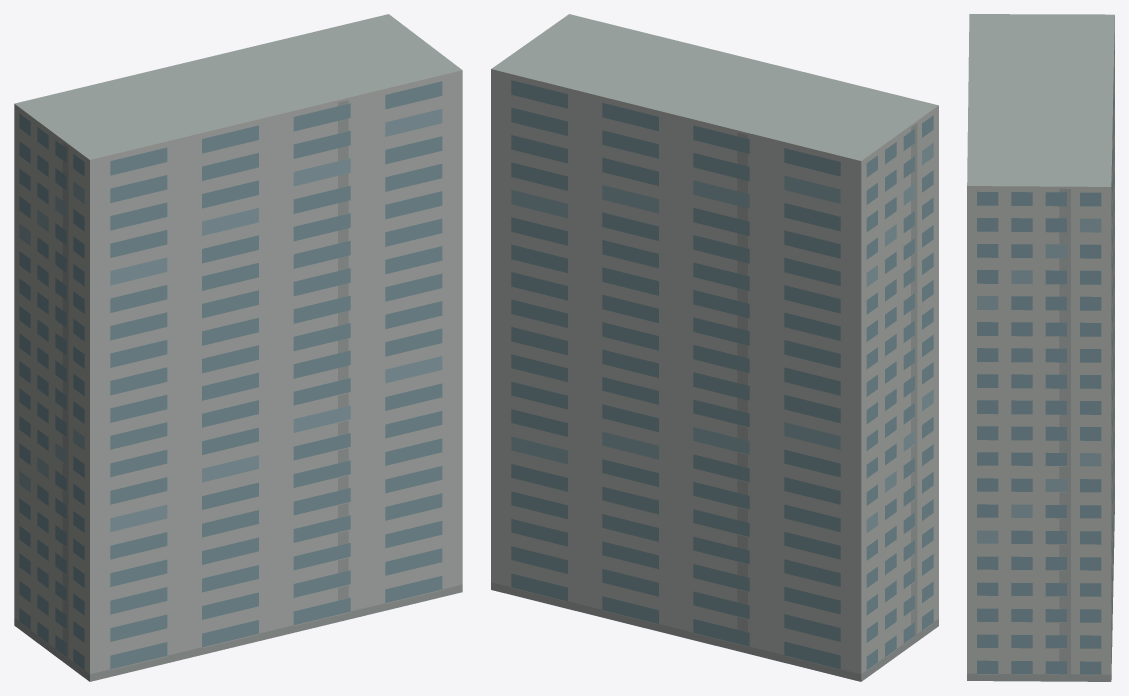
Rendered from residential-8b0b799f-456e-4ff2-b1a0-964540e393e6.glb.
The picture shows the model from 3 angles, left to right: view 1: azimuth 30°, elevation 25°; view 2: azimuth 150°, elevation 25°; view 3: azimuth 270°, elevation 25°; orthographic projection. The views are drawn at different scales.
Parts seen in each view (by area): view 1: residential-8b0b799f-456e-4ff2-b1a0-964540e393e6.tmp; view 2: residential-8b0b799f-456e-4ff2-b1a0-964540e393e6.tmp; view 3: residential-8b0b799f-456e-4ff2-b1a0-964540e393e6.tmp.
Part boxes in pixels (<box>): residential-8b0b799f-456e-4ff2-b1a0-964540e393e6.tmp: <box>14,14,462,681</box>; residential-8b0b799f-456e-4ff2-b1a0-964540e393e6.tmp: <box>491,14,938,681</box>; residential-8b0b799f-456e-4ff2-b1a0-964540e393e6.tmp: <box>967,14,1114,681</box>.
Size of the model in its own units: 41.98 by 56 by 15.16.
